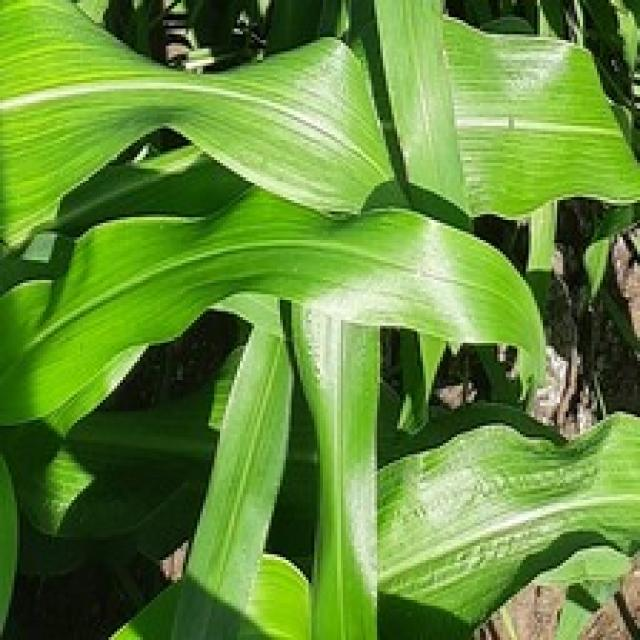Corn: (0, 0, 637, 637), (0, 186, 549, 434), (0, 0, 397, 240), (372, 406, 637, 637), (0, 417, 20, 637)
